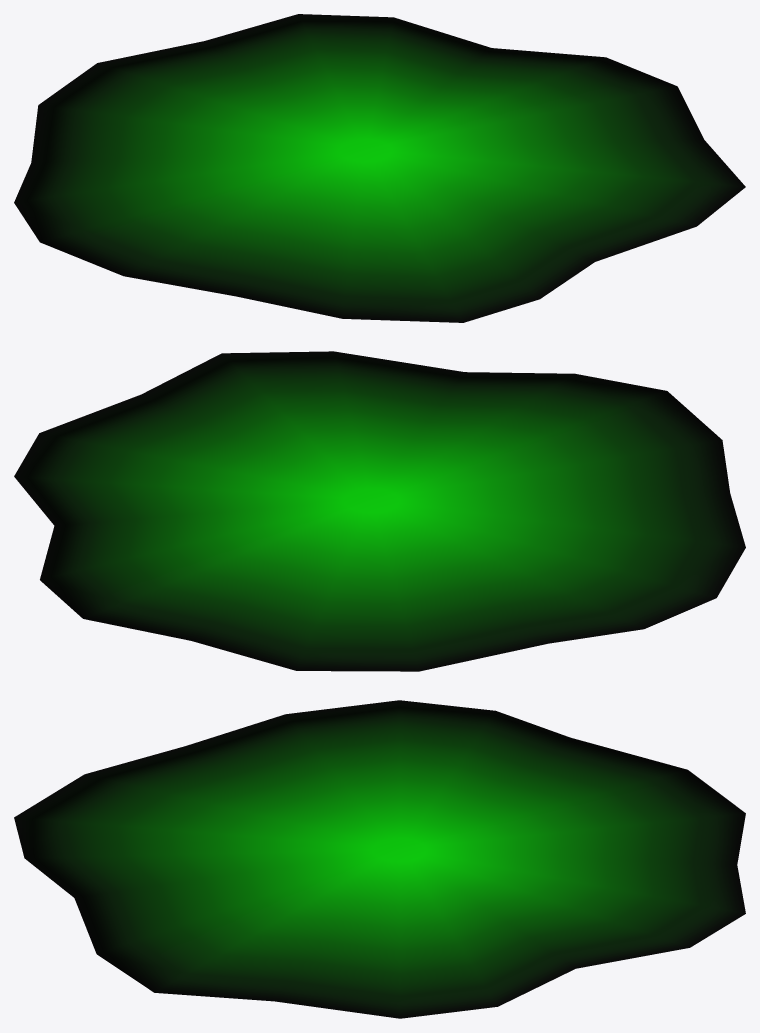
Rendered from Spalsh.fbx.
3 renders of one model, top to bottom at view 1: azimuth 30°, elevation 25°; view 2: azimuth 150°, elevation 25°; view 3: azimuth 270°, elevation 25°, orthographic. The views are drawn at different scales.
Visible parts, largest first — view 1: pSphere1; view 2: pSphere1; view 3: pSphere1.
Part boxes in pixels (x1=…): pSphere1: x1=14, y1=14, x2=745, y2=322; pSphere1: x1=14, y1=351, x2=745, y2=671; pSphere1: x1=14, y1=700, x2=745, y2=1018.
Bounding box in the file's own units: 5033 × 198 × 4888.
